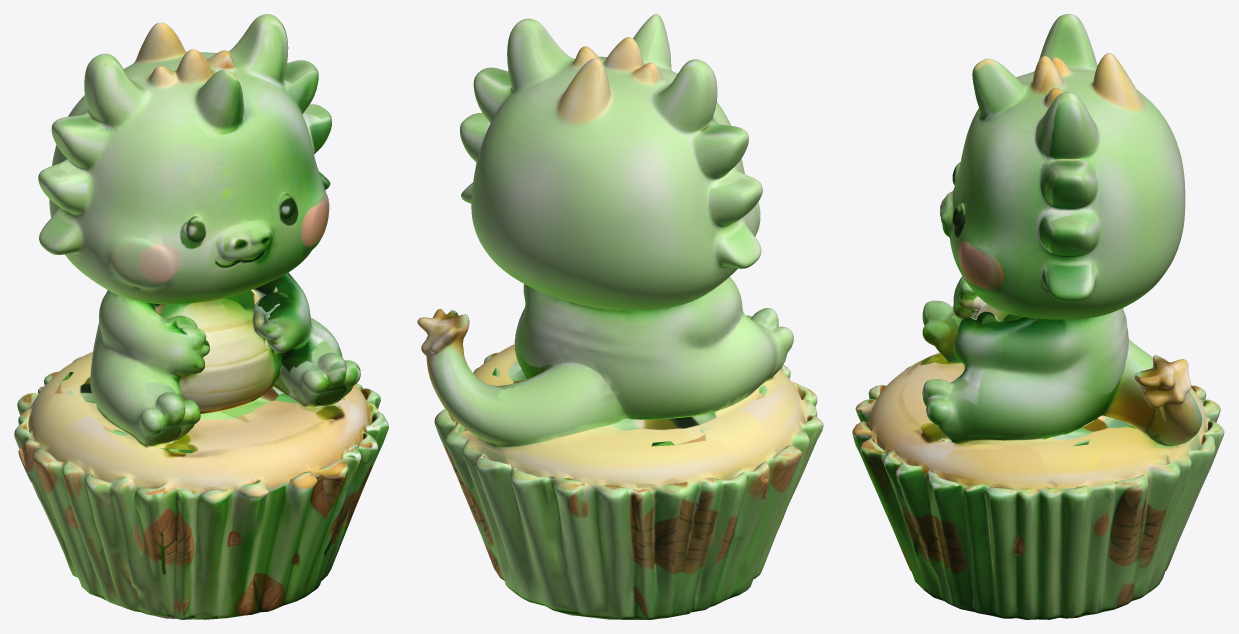
Rendered from c44d6tuk.glb.
The picture shows the model from 3 angles, left to right: view 1: azimuth 30°, elevation 25°; view 2: azimuth 150°, elevation 25°; view 3: azimuth 270°, elevation 25°; orthographic projection. The views are drawn at different scales.
Visible parts, largest first — view 1: Dragon Figurine; view 2: Dragon Figurine; view 3: Dragon Figurine.
Boxes of the visible parts, left/top/right/bottom form: Dragon Figurine: left=14, top=14, right=388, bottom=619; Dragon Figurine: left=417, top=14, right=823, bottom=619; Dragon Figurine: left=852, top=14, right=1224, bottom=619.
Bounding box in the file's own units: 0.0965 × 0.15 × 0.0978.
1 material, 1 textured.
